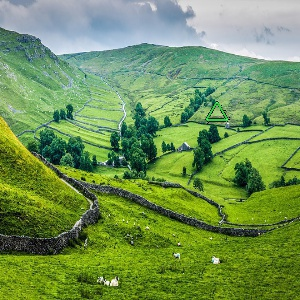triangle: (204, 99, 230, 123)
